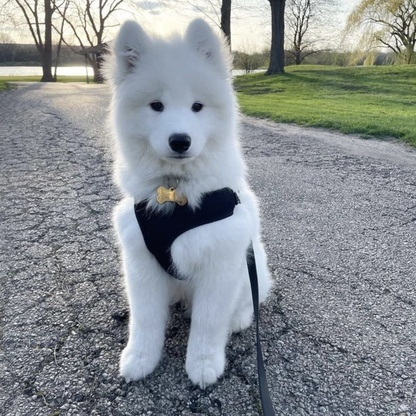samoyed: (103, 15, 277, 392)
